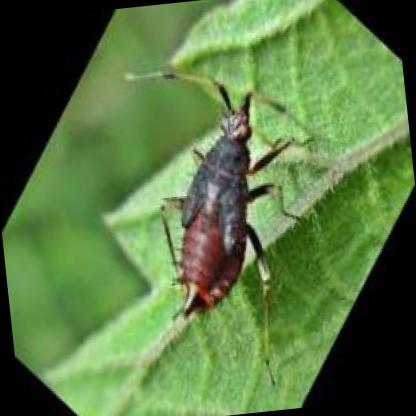uroleucon compositae: (168, 70, 288, 319)
